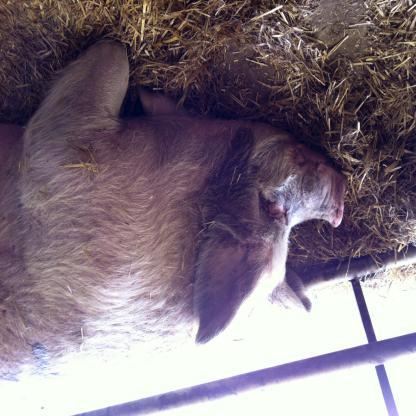boar: (0, 39, 345, 383)
